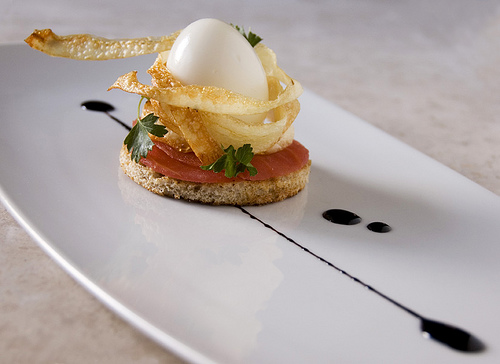egg: (158, 19, 278, 145)
